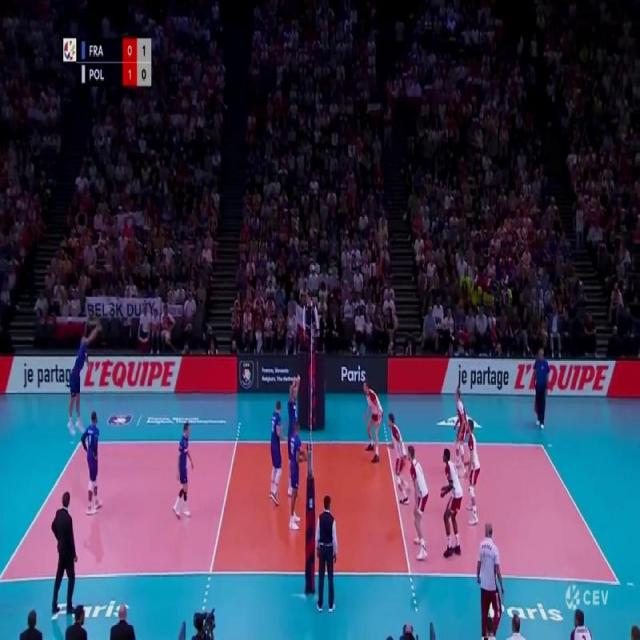volleyball: (108, 305, 112, 312)
